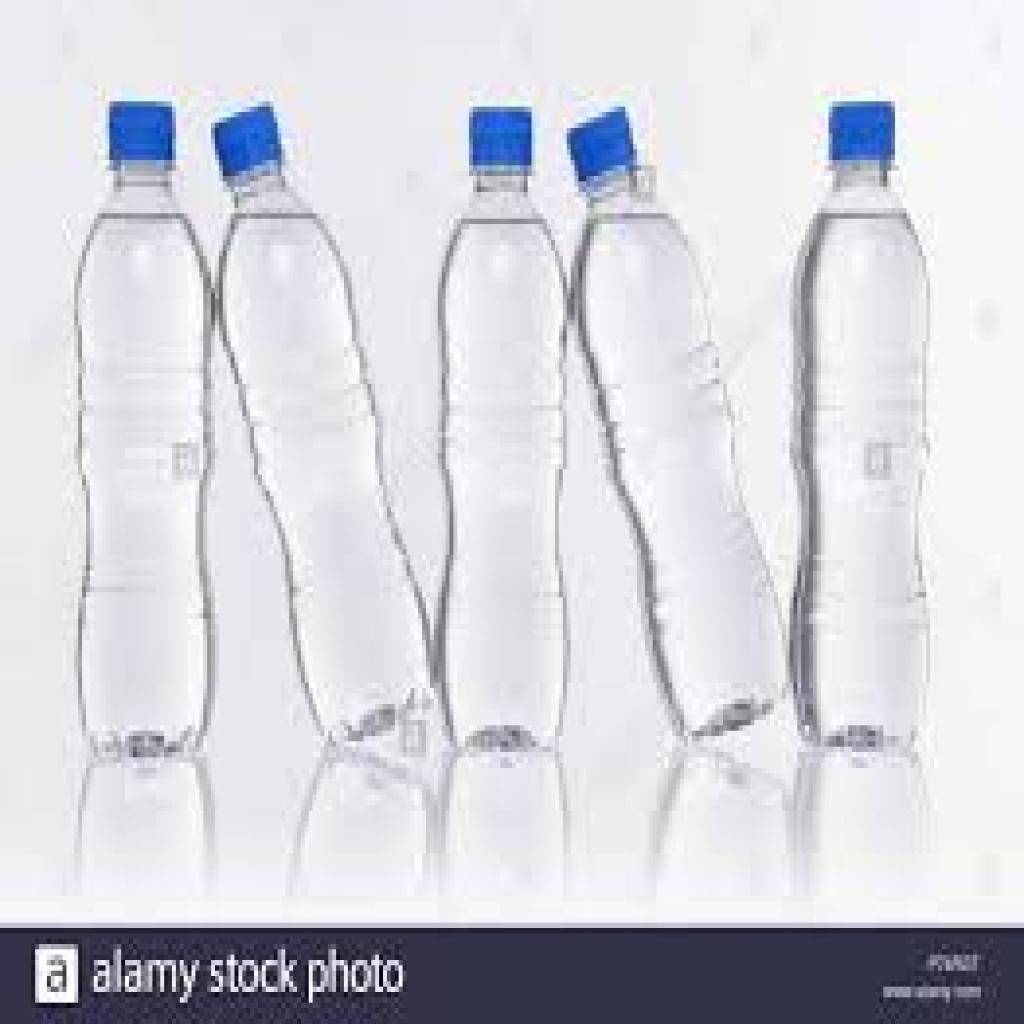organico: (566, 95, 793, 762), (213, 103, 432, 770), (424, 81, 584, 748), (56, 98, 216, 765), (785, 85, 945, 752)
